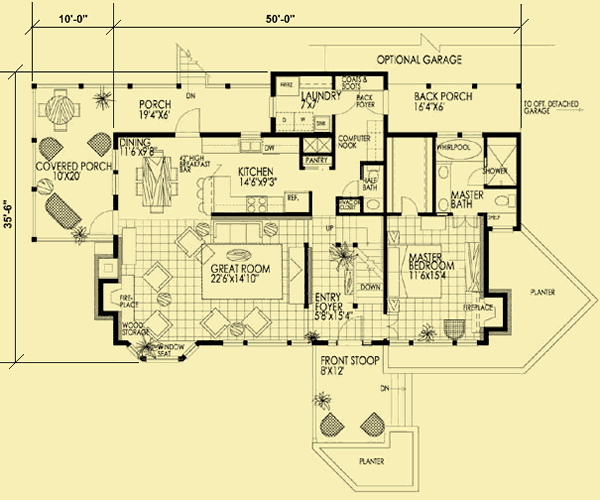bathroom has a shower space with small and large sink with bathtub: (432, 130, 524, 215)
kitchen has a cooking range with twin sink: (194, 131, 309, 216)
laundry room has a washer and dryer: (271, 71, 335, 136)
livingroom has small and large sofas with tables: (114, 218, 309, 357)
master bedroom has a double bed with bedside stands: (381, 213, 489, 349)
porch has dining table and couches: (31, 84, 116, 242)
small bathroom has a small and large sink: (360, 161, 386, 216)
this hall has a dining table: (113, 131, 195, 221)
